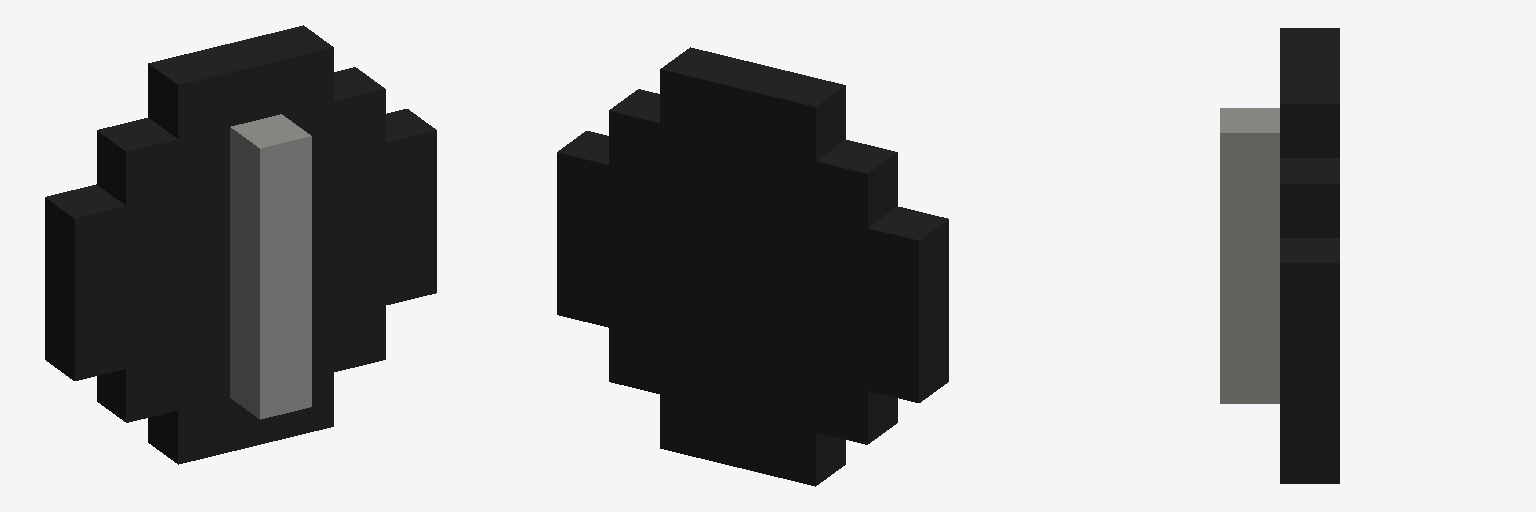
3 renders of one model, left to right at view 1: azimuth 30°, elevation 25°; view 2: azimuth 150°, elevation 25°; view 3: azimuth 270°, elevation 25°, orthographic.
Parts seen in each view (by area): view 1: object 1; view 2: object 1; view 3: object 1.
Part boxes in pixels (x1,y1,x2,y2): object 1: (45,25,436,464); object 1: (557,47,948,486); object 1: (1220,28,1339,483).
Size of the model in its own units: 0.7 by 0.7 by 0.2.
1 materials, 1 textured.